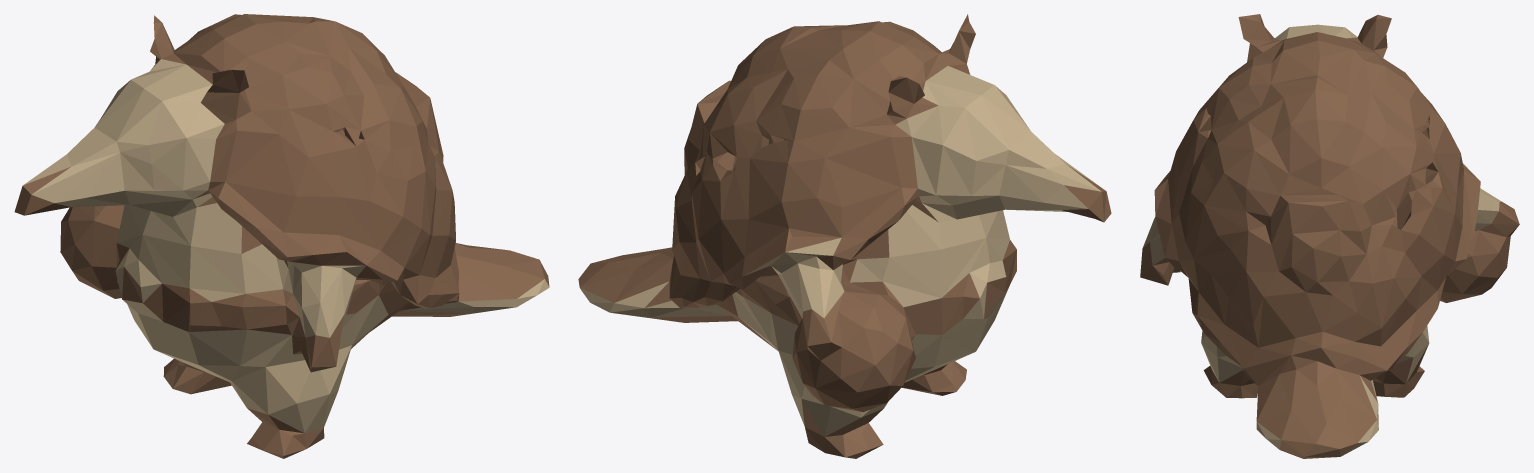
3 renders of one model, left to right at view 1: azimuth 30°, elevation 25°; view 2: azimuth 150°, elevation 25°; view 3: azimuth 270°, elevation 25°, orthographic. The views are drawn at different scales.
Size of the model in its own units: 0.9903 by 0.6953 by 0.6799.
